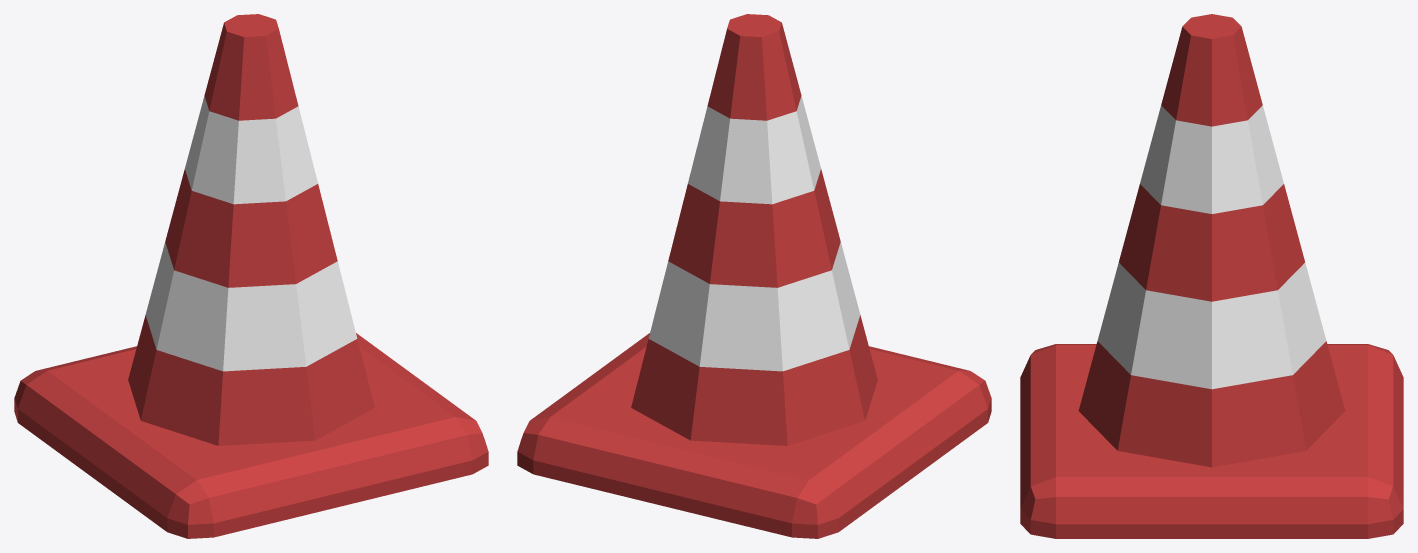
The model's file is RoadSign_04.fbx.
3 views of the same model, side by side, from view 1: azimuth 30°, elevation 25°; view 2: azimuth 150°, elevation 25°; view 3: azimuth 270°, elevation 25° (orthographic). The views are drawn at different scales.
Visible parts, largest first — view 1: RoadSign_04; view 2: RoadSign_04; view 3: RoadSign_04.
Boxes of the visible parts, x1,y1,x2,y2 form: RoadSign_04: [14, 14, 488, 538]; RoadSign_04: [517, 14, 991, 538]; RoadSign_04: [1020, 14, 1403, 538].
Bounding box in the file's own units: 0.7665 × 0.9522 × 0.7665.
